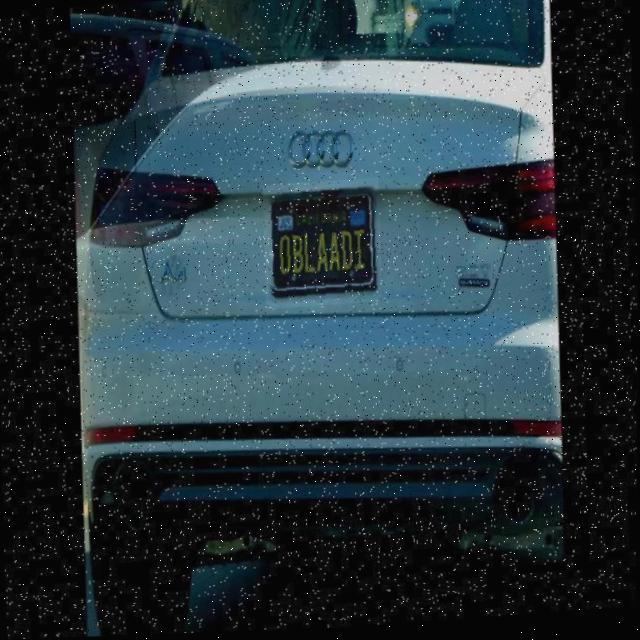LicensePlate: (262, 180, 382, 311)
